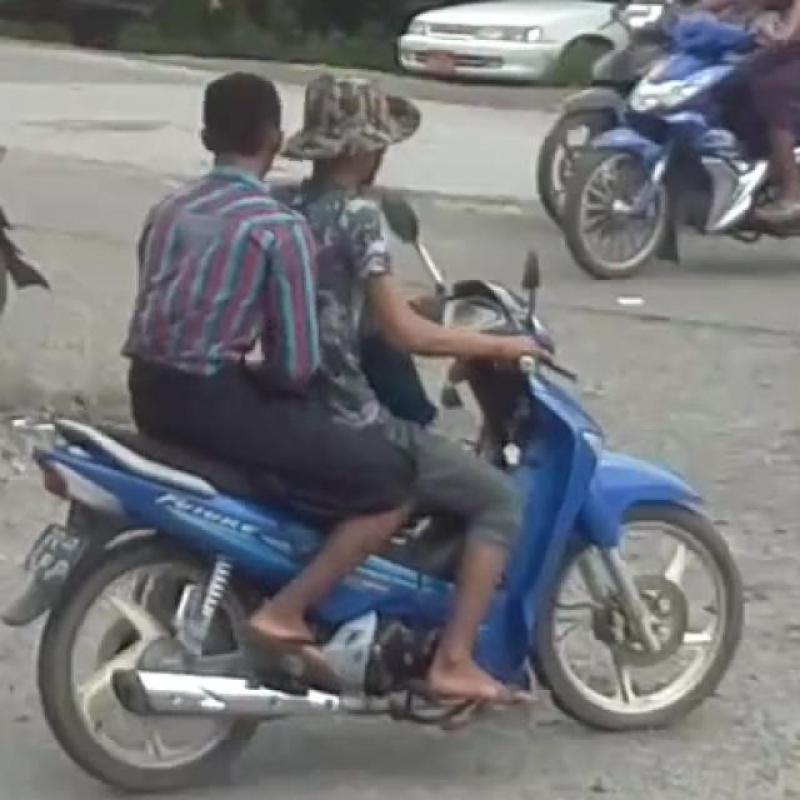nohelmet: (180, 66, 304, 192), (314, 60, 420, 190)
